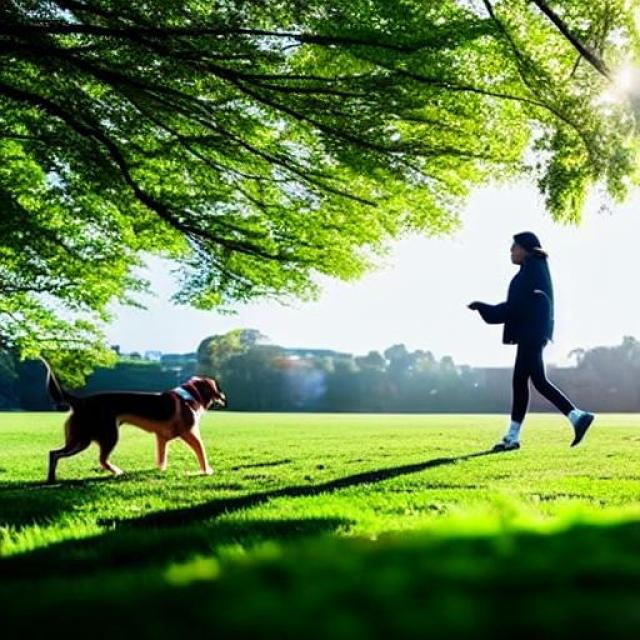Unleashed_Dog: (48, 320, 543, 482)
